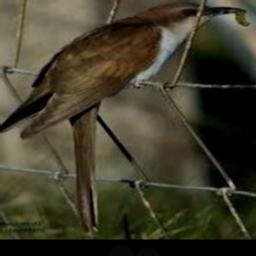Cuckoo: (0, 1, 247, 230)
